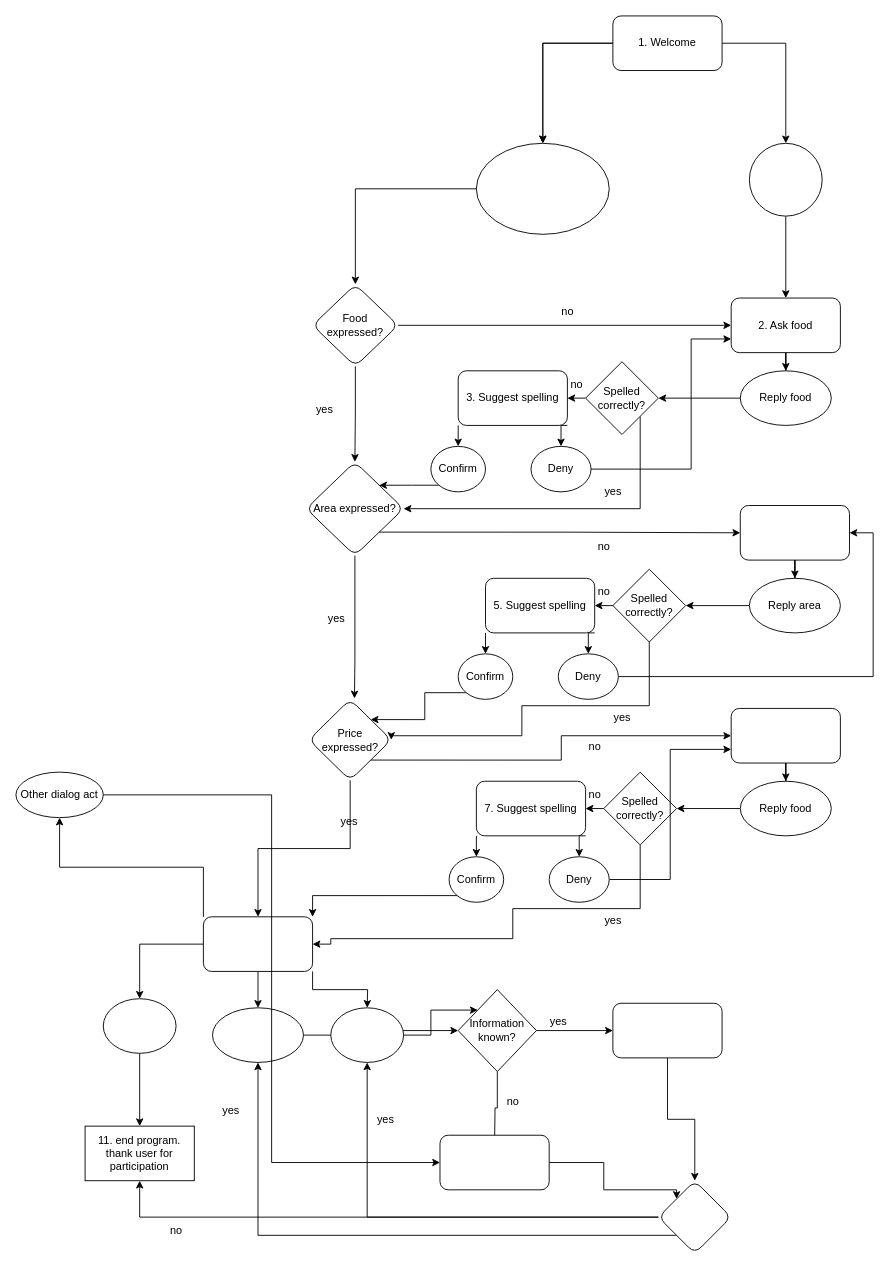
Image size: 896x1269. Some labels were removed from this diagram. The centre of each missing label's shape, as x and y in pixels:
"10. Apologies; ask if they what to know something else." belongs at (x=494, y=1162).
"4. Ask area" belongs at (x=794, y=532).
"6. Ask price" belongs at (x=785, y=735).
"8. Suggest restaurant" belongs at (x=257, y=943).
"9. Give information ask if they want to know something else." belongs at (x=667, y=1030).
"Express preferences" belongs at (x=542, y=188).
"Expresses no preferences" belongs at (x=785, y=179).
"More info asked?" belongs at (x=694, y=1217).
"Request adress" belongs at (x=257, y=1034).
"Request phone" belongs at (x=367, y=1034).
"Thanks" belongs at (x=139, y=1025).
